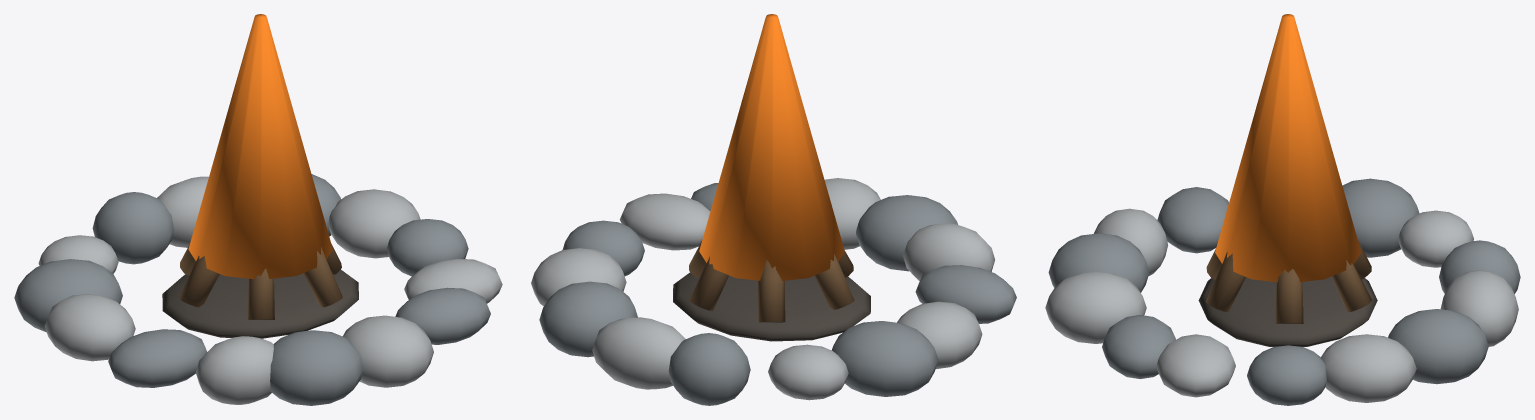
File: campfire.glb
The picture shows the model from 3 angles, left to right: view 1: azimuth 30°, elevation 25°; view 2: azimuth 150°, elevation 25°; view 3: azimuth 270°, elevation 25°; orthographic projection.
Visible parts, largest first — view 1: flame_outer, ember_bed, ring_stone_10, ring_stone_11, ring_stone_7, ring_stone_8, ring_stone_4, ring_stone_9, ring_stone_1, ring_stone_6, ring_stone_12, ring_stone_0 (+7 smaller); view 2: flame_outer, ember_bed, ring_stone_6, ring_stone_3, ring_stone_2, ring_stone_4, ring_stone_10, ring_stone_13, ring_stone_8, ring_stone_9, ring_stone_5, ring_stone_7 (+6 smaller); view 3: flame_outer, ember_bed, ring_stone_2, ring_stone_1, ring_stone_11, ring_stone_6, ring_stone_0, ring_stone_13, ring_stone_10, ring_stone_3, ring_stone_8, ring_stone_12 (+6 smaller).
Part boxes in pixels (x1,y1,x2,y2): flame_outer: [188, 14, 332, 279]; ember_bed: [162, 269, 358, 338]; ring_stone_10: [270, 330, 362, 405]; ring_stone_11: [342, 315, 433, 387]; ring_stone_7: [44, 294, 135, 361]; ring_stone_8: [108, 329, 206, 387]; ring_stone_4: [92, 192, 173, 264]; ring_stone_9: [196, 336, 273, 404]; ring_stone_1: [328, 189, 420, 258]; ring_stone_6: [14, 259, 122, 332]; ring_stone_12: [395, 287, 490, 344]; ring_stone_0: [386, 219, 468, 276]; flame_outer: [699, 14, 844, 280]; ember_bed: [673, 272, 870, 341]; ring_stone_6: [831, 321, 938, 396]; ring_stone_3: [592, 317, 685, 389]; ring_stone_2: [539, 281, 637, 357]; ring_stone_4: [668, 333, 750, 405]; ring_stone_10: [856, 195, 957, 271]; ring_stone_13: [619, 193, 710, 250]; ring_stone_8: [915, 265, 1016, 323]; ring_stone_9: [903, 223, 994, 281]; ring_stone_5: [768, 344, 848, 400]; ring_stone_7: [897, 301, 982, 368]; flame_outer: [1215, 14, 1361, 282]; ember_bed: [1198, 276, 1377, 346]; ring_stone_2: [1388, 309, 1488, 384]; ring_stone_1: [1320, 334, 1416, 402]; ring_stone_11: [1045, 272, 1146, 343]; ring_stone_6: [1342, 178, 1419, 257]; ring_stone_0: [1247, 345, 1326, 405]; ring_stone_13: [1156, 334, 1235, 397]; ring_stone_10: [1048, 233, 1149, 292]; ring_stone_3: [1440, 270, 1518, 346]; ring_stone_8: [1157, 187, 1228, 253]; ring_stone_12: [1102, 315, 1175, 378].
Size of the model in its own units: 1.17 by 0.8383 by 1.17.
